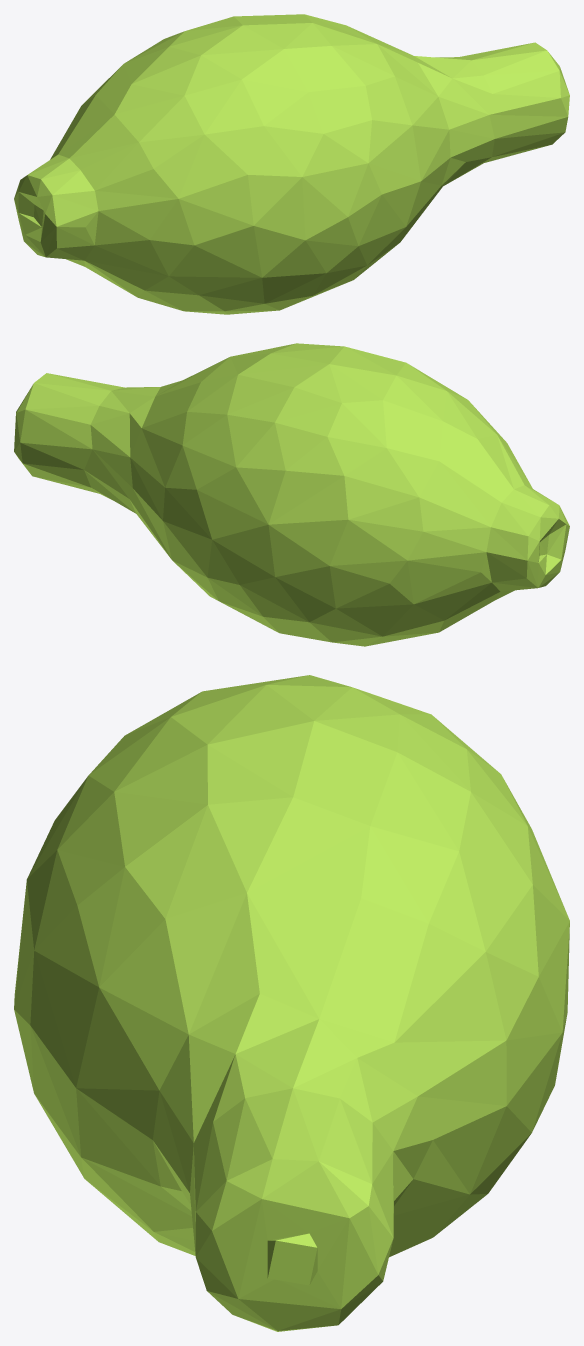
Rendered from papaya.fbx.
3 renders of one model, top to bottom at view 1: azimuth 30°, elevation 25°; view 2: azimuth 150°, elevation 25°; view 3: azimuth 270°, elevation 25°, orthographic. The views are drawn at different scales.
Visible parts, largest first — view 1: 零件9; view 2: 零件9; view 3: 零件9.
Boxes of the visible parts, x1,y1,x2,y2 form: 零件9: [14, 14, 569, 314]; 零件9: [14, 343, 569, 646]; 零件9: [14, 675, 569, 1331].
Size of the model in its own units: 20645 by 10049 by 9949.
